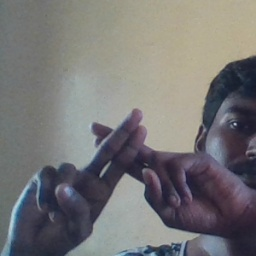F: (65, 103, 184, 224)
